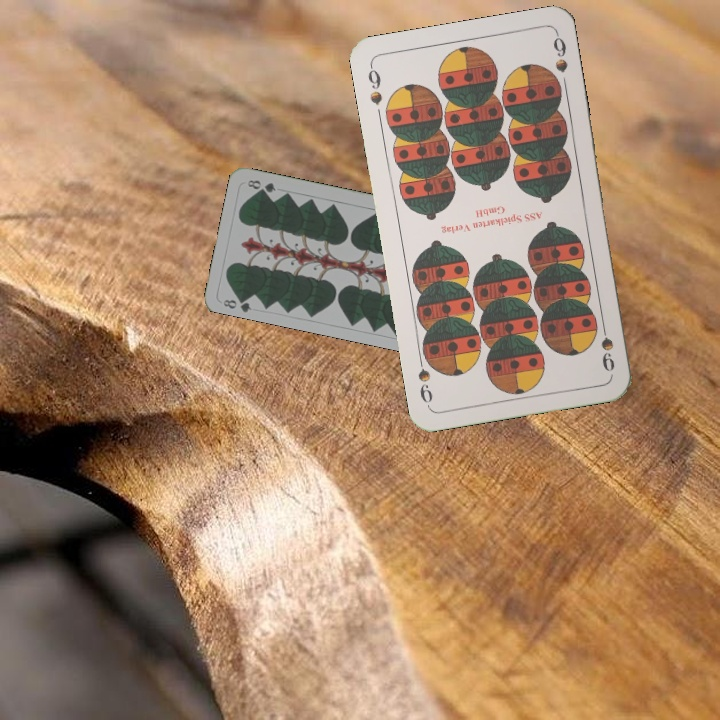G8: (219, 292, 254, 314)
S9: (596, 316, 618, 374), (364, 61, 385, 108)
